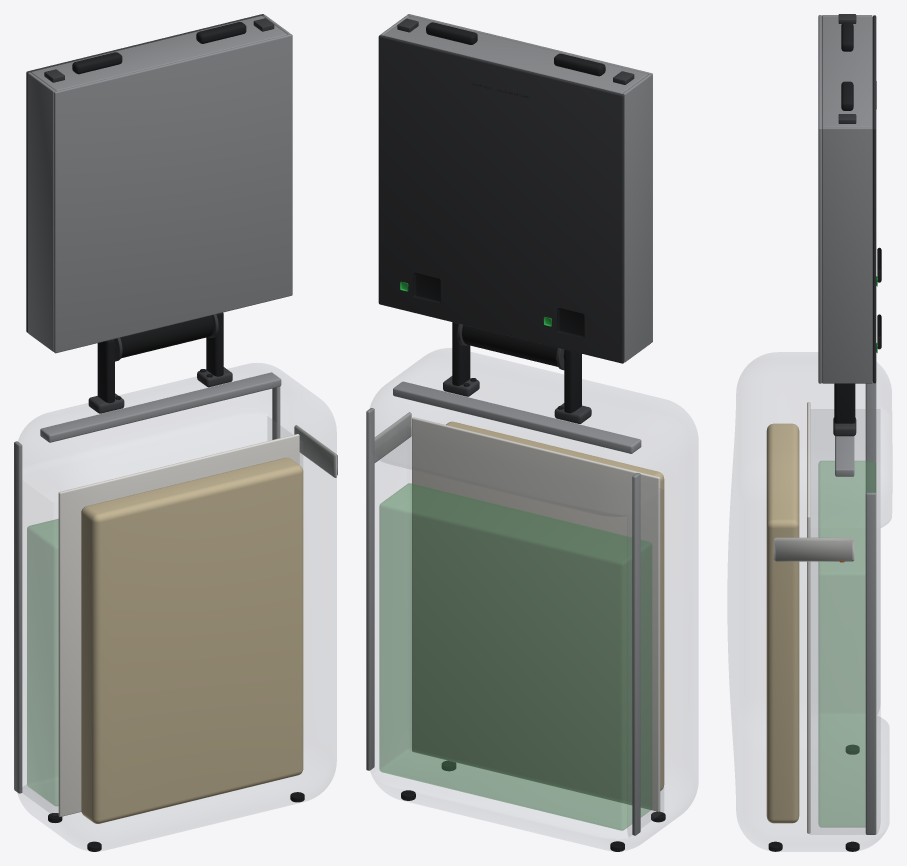
Rendered from big-pack-open.glb.
3 renders of one model, left to right at view 1: azimuth 30°, elevation 25°; view 2: azimuth 150°, elevation 25°; view 3: azimuth 270°, elevation 25°, orthographic. The views are drawn at different scales.
Parts seen in each view (by area): view 1: Pack suspended sleeve.001, Pack carrier base plate.001, Pack body.001, Pack HDPE barrier.001, Carrier LOW seated position (marker), Pack carrier side L.001, Pack carrier top wall.001, Pack frame bridge.001, Pack frame stay.002, Pack fat grip (35 mm).001, Pack handle post -1.001, Pack carrier lid.001 (+4 smaller); view 2: Pack HDPE barrier.001, Carrier LOW seated position (marker), Pack carrier lid.001, Pack body.001, Pack carrier side L.001, Pack carrier top wall.001, Pack frame bridge.001, Pack frame stay.003, Pack frame stay.002, Pack suspended sleeve.001, Pack fat grip (35 mm).001, Pack carrier base plate.001 (+7 smaller); view 3: Pack body.001, Carrier LOW seated position (marker), Pack carrier side R.001, Pack suspended sleeve.001, Pack carrier top wall.001, Pack frame stay.003, Pack load marker plate.001, Pack carrier lid.001, Pack HDPE barrier.001, Pack carrier base plate.001, Pack frame stay.002, Pack handle post 1.001 (+4 smaller).
Boxes of the visible parts, x1,y1,x2,y2 form: Pack suspended sleeve.001: (81, 457, 303, 823); Pack carrier base plate.001: (54, 34, 292, 353); Pack body.001: (18, 363, 336, 850); Pack HDPE barrier.001: (58, 434, 299, 816); Carrier LOW seated position (marker): (27, 519, 58, 805); Pack carrier side L.001: (28, 72, 55, 351); Pack carrier top wall.001: (31, 16, 287, 91); Pack frame bridge.001: (40, 372, 281, 442); Pack frame stay.002: (14, 441, 22, 793); Pack fat grip (35 mm).001: (120, 315, 214, 358); Pack handle post -1.001: (97, 339, 114, 403); Pack carrier lid.001: (26, 14, 264, 332); Pack HDPE barrier.001: (412, 417, 660, 811); Carrier LOW seated position (marker): (379, 483, 651, 830); Pack carrier lid.001: (378, 35, 624, 363); Pack body.001: (370, 348, 697, 850); Pack carrier side L.001: (622, 74, 651, 362); Pack carrier top wall.001: (383, 16, 647, 93); Pack frame bridge.001: (393, 381, 641, 453); Pack frame stay.003: (366, 408, 374, 770); Pack frame stay.002: (632, 473, 640, 835); Pack suspended sleeve.001: (446, 421, 664, 790); Pack fat grip (35 mm).001: (462, 325, 557, 366); Pack carrier base plate.001: (407, 14, 652, 342); Pack body.001: (728, 352, 891, 851); Carrier LOW seated position (marker): (818, 461, 875, 827); Pack carrier side R.001: (822, 127, 872, 383); Pack suspended sleeve.001: (766, 423, 799, 823); Pack carrier top wall.001: (822, 16, 872, 127); Pack frame stay.003: (865, 492, 876, 834); Pack load marker plate.001: (773, 537, 854, 561); Pack carrier lid.001: (872, 15, 876, 383); Pack HDPE barrier.001: (807, 402, 810, 833); Pack carrier base plate.001: (818, 15, 821, 383); Pack frame stay.002: (865, 382, 876, 492); Pack handle post 1.001: (834, 383, 855, 423).
Size of the model in its own units: 0.3635 by 0.93 by 0.1886.
